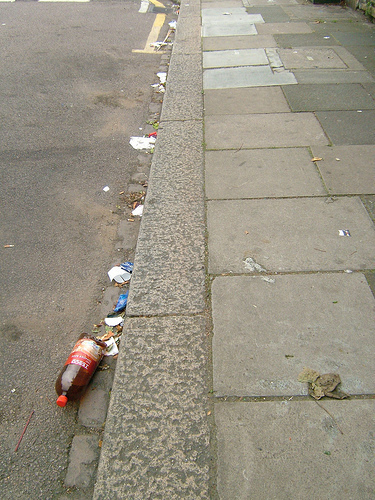litter: (52, 331, 107, 406), (103, 295, 127, 327), (106, 257, 133, 285), (127, 131, 157, 150), (152, 72, 166, 94), (148, 40, 169, 50), (127, 204, 142, 217), (166, 18, 179, 32), (5, 241, 14, 248)
